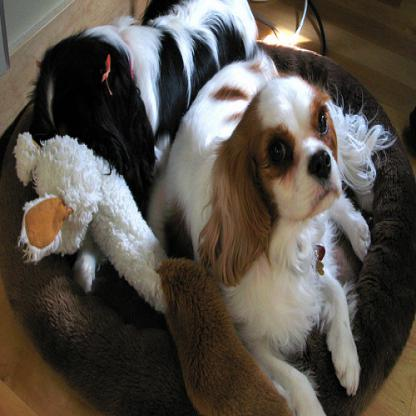dog: (148, 45, 392, 415), (32, 0, 256, 206)
